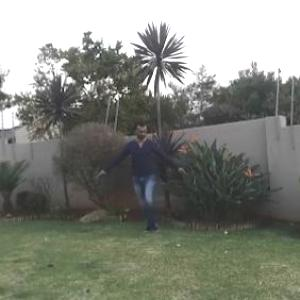land: (97, 112, 199, 242)
